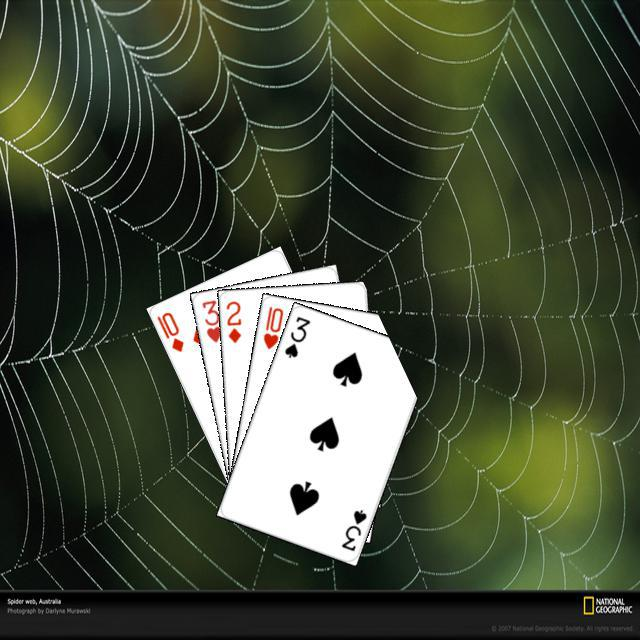10d: (152, 307, 186, 354)
10h: (258, 301, 285, 351)
2d: (221, 296, 243, 345)
3h: (197, 295, 223, 344)
3s: (279, 311, 312, 360), (336, 505, 368, 553)
